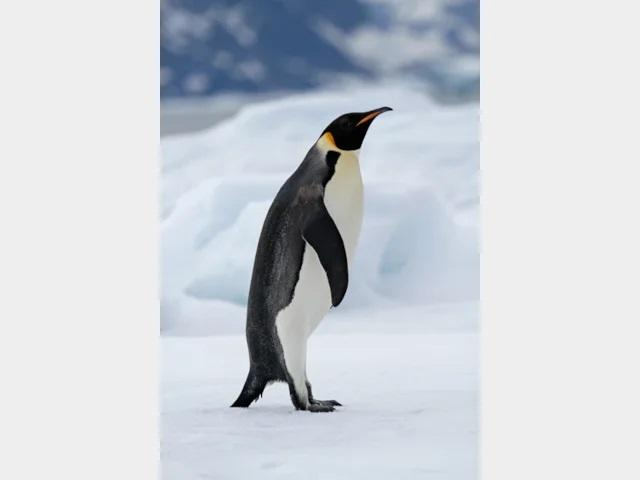emporer: (218, 82, 426, 427)
